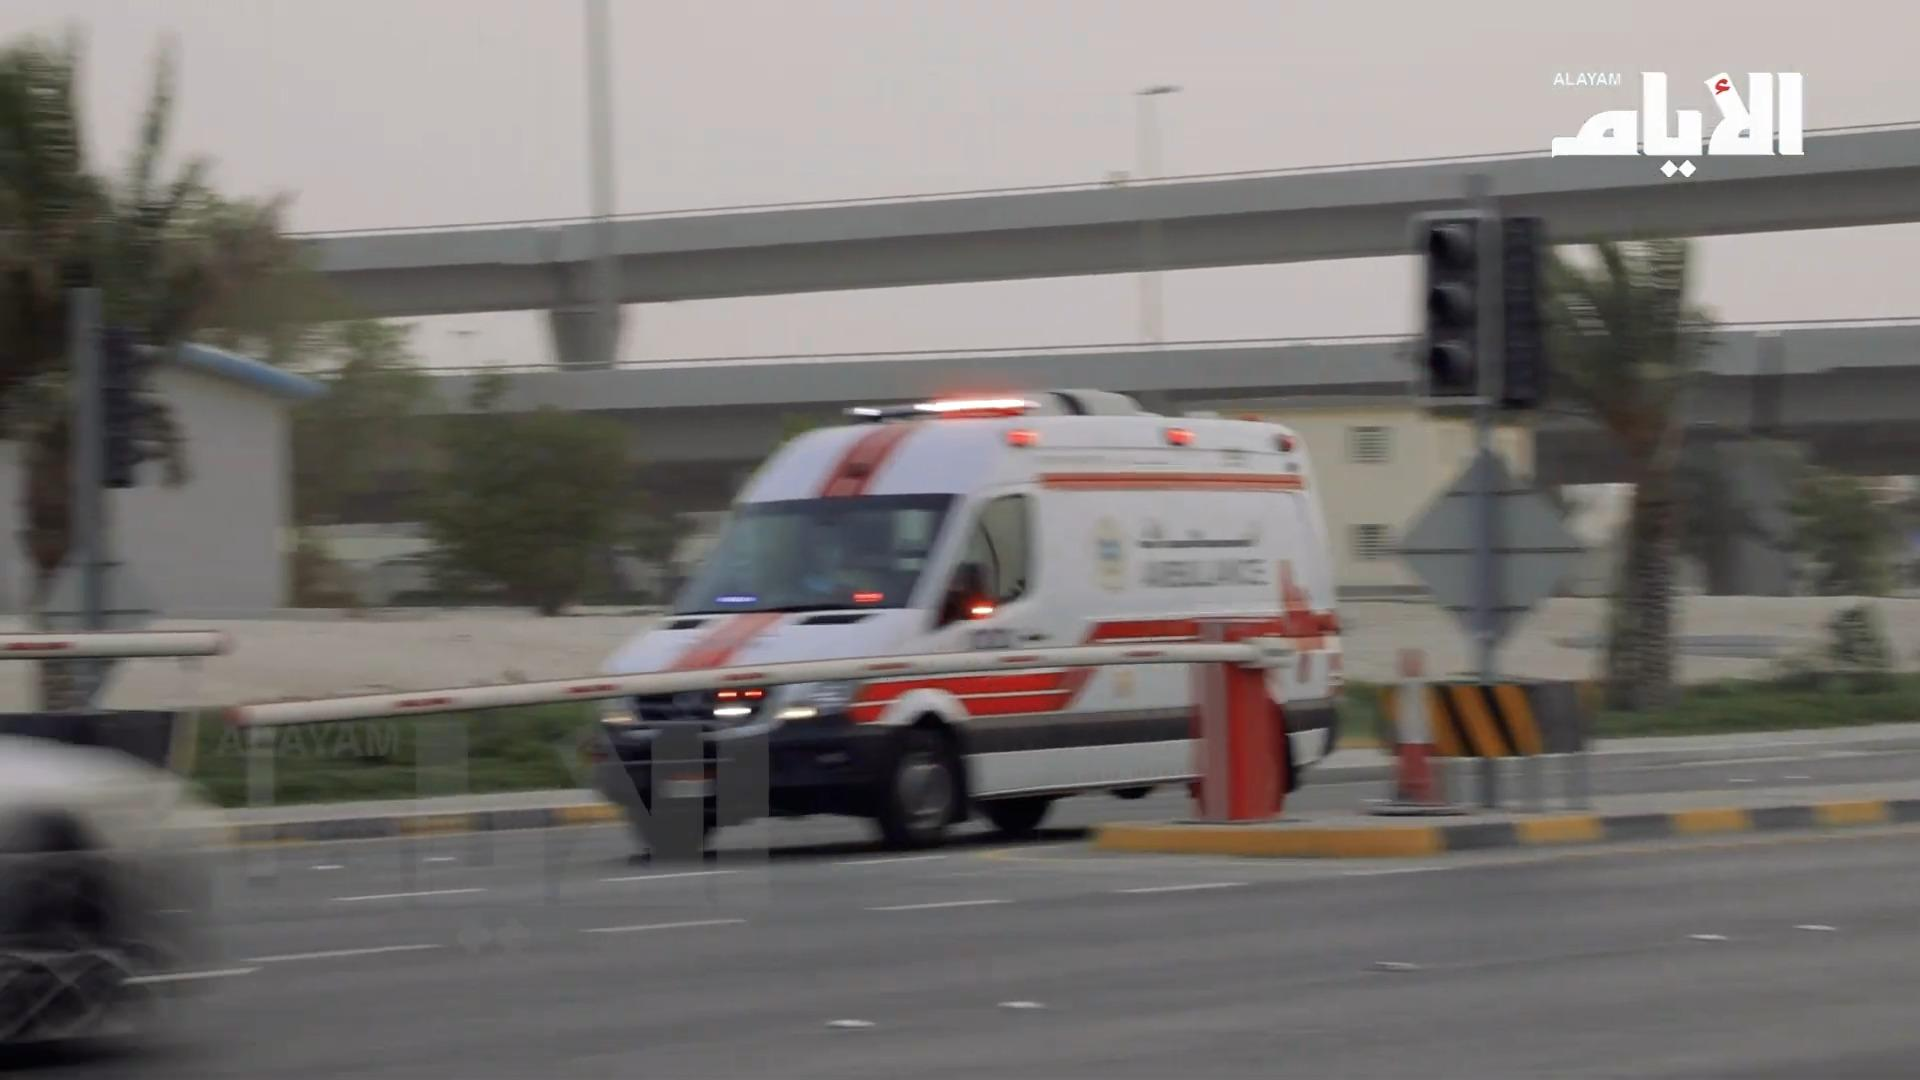ambulance_on: (588, 390, 1342, 847)
